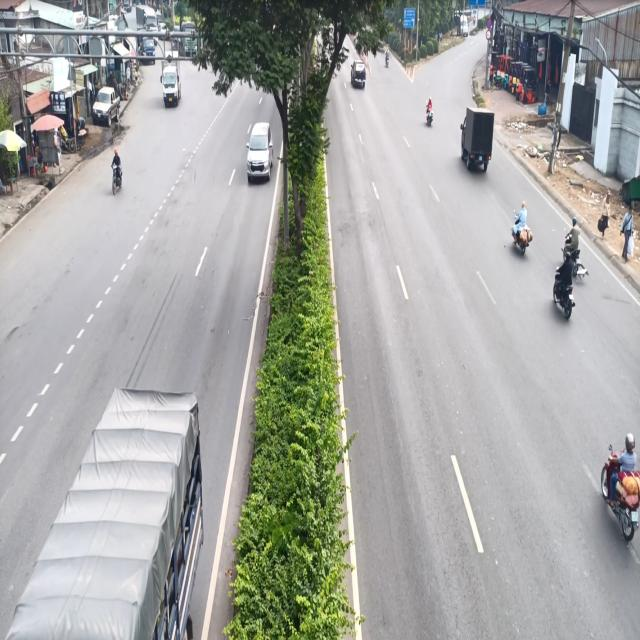car: (246, 117, 274, 191), (350, 55, 368, 95)
motor: (597, 427, 640, 554), (511, 193, 530, 255), (110, 145, 124, 203)
truck: (457, 101, 497, 181), (158, 59, 184, 106)
